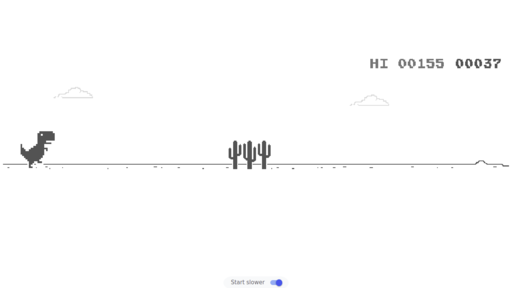dino: (19, 130, 54, 168)
tree: (226, 139, 271, 171)
